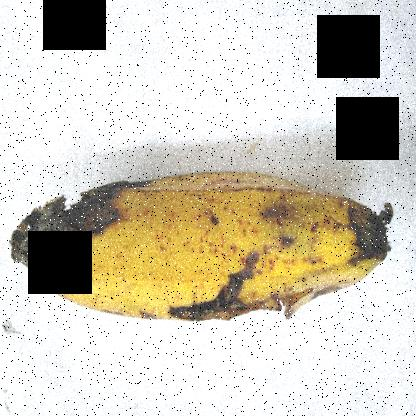rotten: (0, 144, 153, 308), (124, 244, 333, 360), (219, 120, 349, 240), (315, 165, 399, 289)
